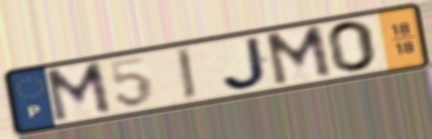0: (324, 19, 381, 76)
5: (107, 55, 158, 109)
I: (172, 45, 200, 103)
J: (219, 34, 273, 93)
M: (262, 22, 336, 90), (41, 59, 116, 126)
